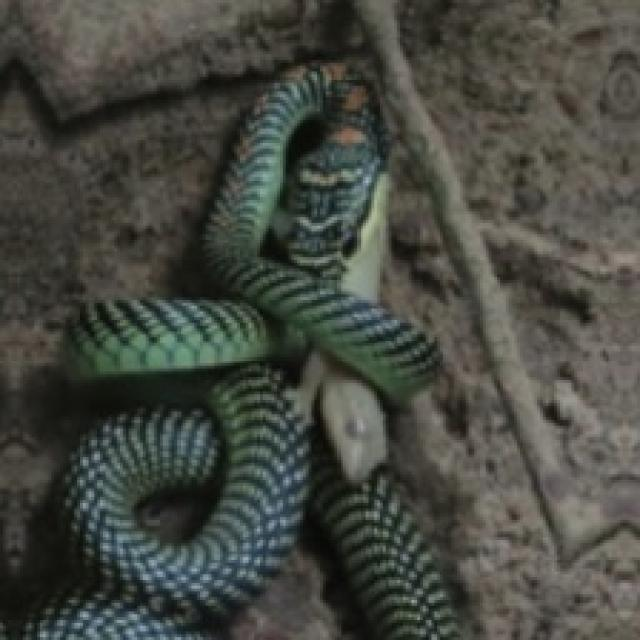paradise tree snake: (0, 66, 457, 637)
